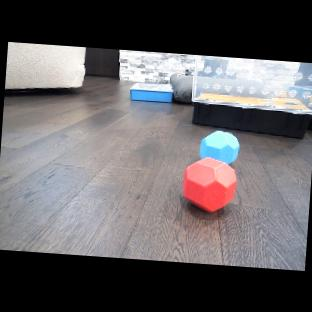V5_BLUE: (179, 155, 239, 215), (199, 128, 240, 161)
